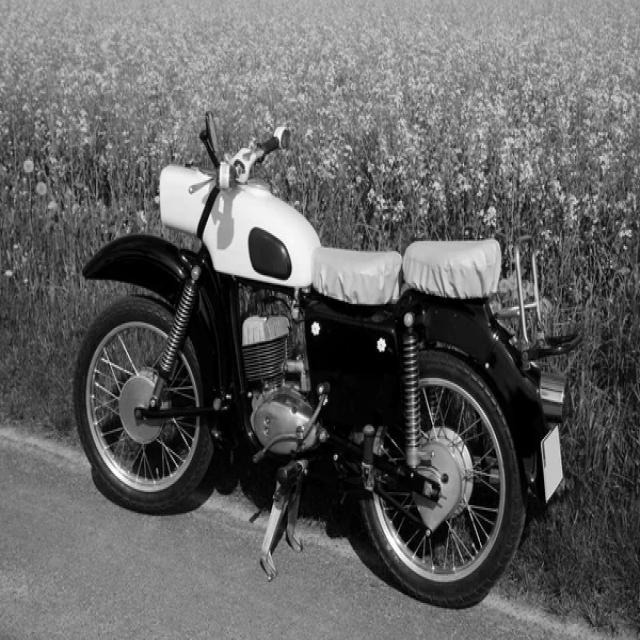Motorcycle: (74, 114, 581, 607)
